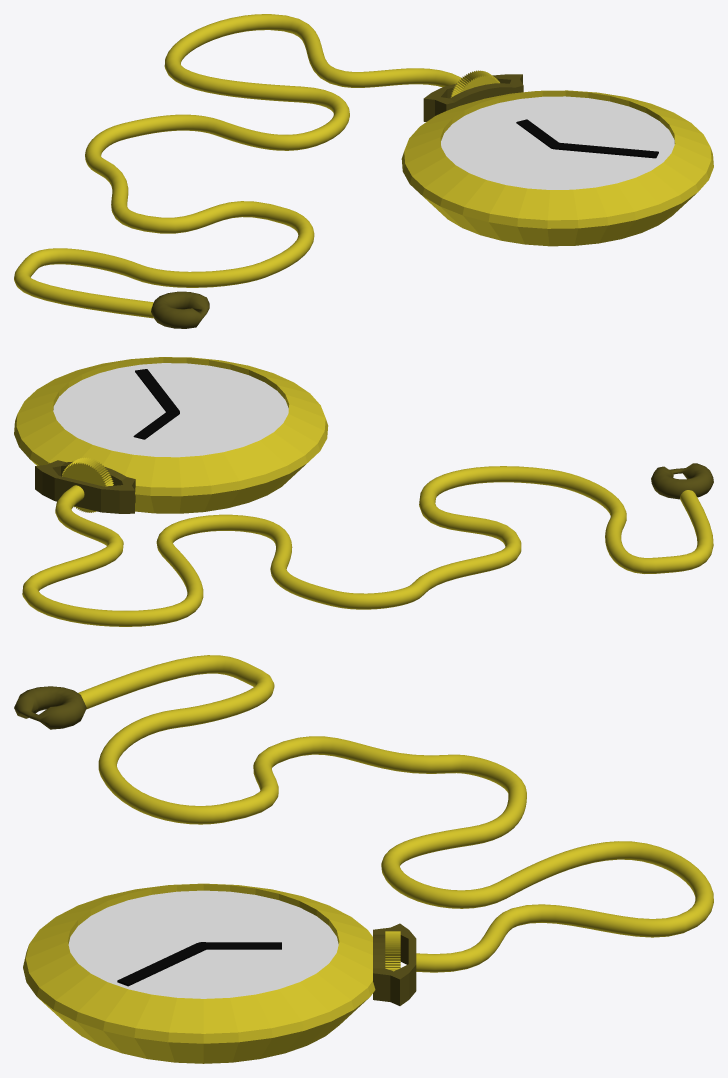
The model's file is stopwatch.fbx.
3 views of the same model, one above another, from view 1: azimuth 30°, elevation 25°; view 2: azimuth 150°, elevation 25°; view 3: azimuth 270°, elevation 25° (orthographic). The views are drawn at different scales.
Parts seen in each view (by area): view 1: Circle, BézierCurve, Vert, Torus, Cube.001, Star; view 2: Circle, BézierCurve, Vert, Torus, Star, Cube.001; view 3: Circle, BézierCurve, Vert, Torus, Cube.001.
Part boxes in pixels (x1=…): Circle: x1=401, y1=90, x2=713, y2=246; BézierCurve: x1=14, y1=14, x2=462, y2=318; Vert: x1=423, y1=74, x2=523, y2=121; Torus: x1=151, y1=291, x2=209, y2=328; Cube.001: x1=555, y1=142, x2=658, y2=158; Star: x1=451, y1=70, x2=499, y2=97; Circle: x1=14, y1=357, x2=328, y2=513; BézierCurve: x1=22, y1=466, x2=713, y2=626; Vert: x1=35, y1=460, x2=135, y2=513; Torus: x1=651, y1=463, x2=713, y2=499; Star: x1=62, y1=457, x2=113, y2=512; Cube.001: x1=135, y1=369, x2=179, y2=412; Circle: x1=23, y1=883, x2=375, y2=1063; BézierCurve: x1=78, y1=655, x2=713, y2=972; Vert: x1=373, y1=923, x2=416, y2=1005; Torus: x1=14, y1=686, x2=86, y2=729; Cube.001: x1=117, y1=943, x2=207, y2=986.
Size of the model in its own units: 375 by 31.61 by 294.
